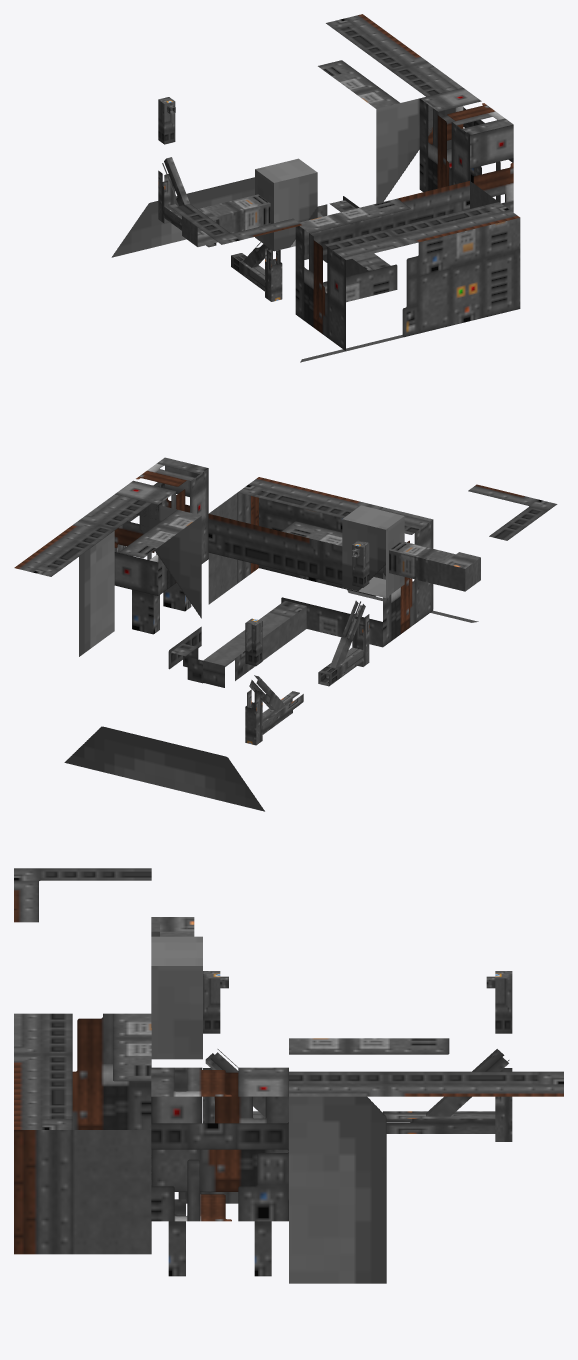
The model's file is beamhouse.obj.
3 views of the same model, one above another, from view 1: azimuth 30°, elevation 25°; view 2: azimuth 150°, elevation 25°; view 3: azimuth 270°, elevation 25° (orthographic). The views are drawn at different scales.
Visible parts, largest first — view 1: base; view 2: base; view 3: base.
Boxes of the visible parts, x1=… form: base: x1=111, y1=14, x2=520, y2=362; base: x1=14, y1=457, x2=557, y2=811; base: x1=14, y1=868, x2=563, y2=1283.
Size of the model in its own units: 4 by 2 by 4.
